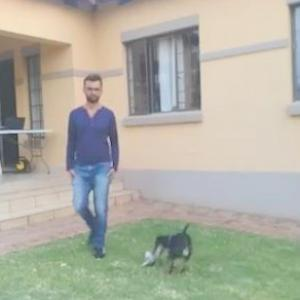follow: (63, 73, 122, 257)
